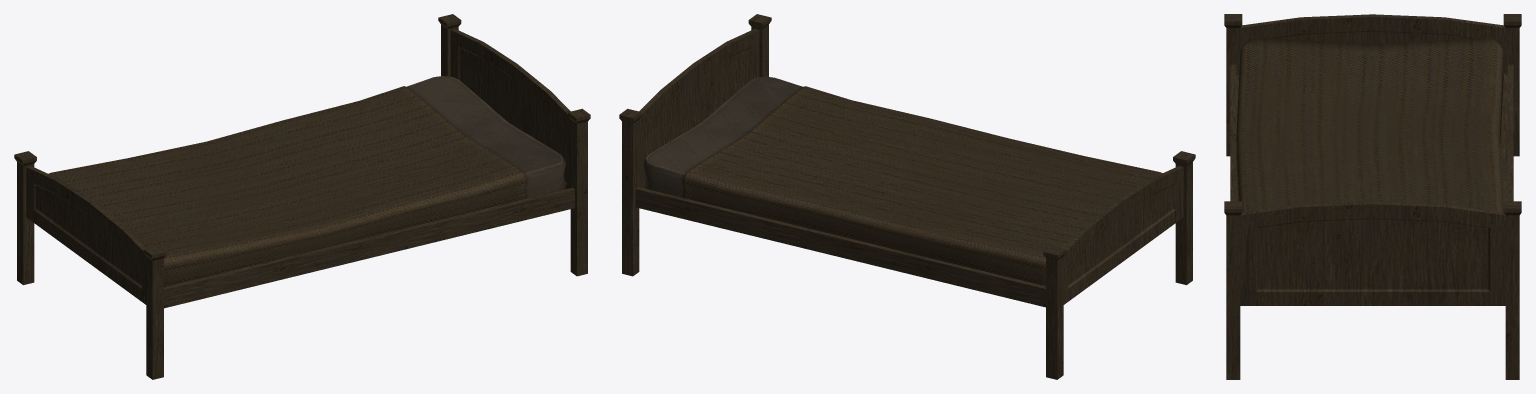
The model's file is bed_5_4.obj.
3 renders of one model, left to right at view 1: azimuth 30°, elevation 25°; view 2: azimuth 150°, elevation 25°; view 3: azimuth 270°, elevation 25°, orthographic. The views are drawn at different scales.
Visible parts, largest first — view 1: bed_5_4; view 2: bed_5_4; view 3: bed_5_4.
Boxes of the visible parts, bbox=[...] form: bed_5_4: bbox=[14, 14, 590, 379]; bed_5_4: bbox=[619, 14, 1195, 379]; bed_5_4: bbox=[1224, 14, 1521, 379].
Size of the model in its own units: 2.74 by 0.9621 by 1.49.
